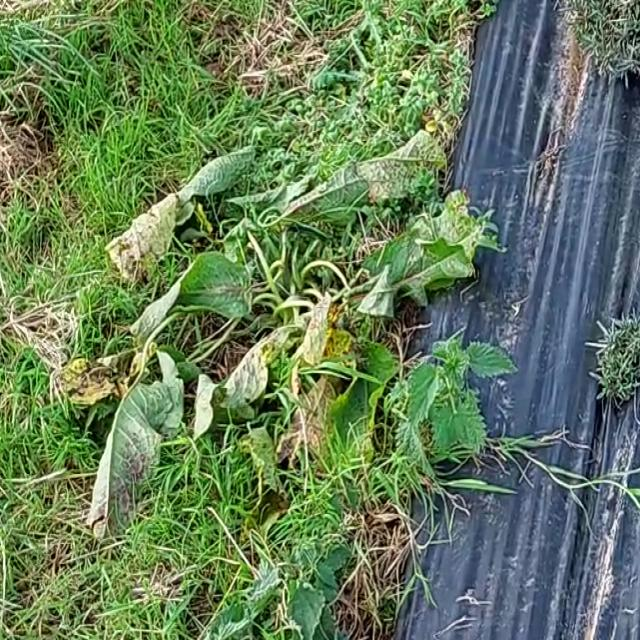organic waste: (56, 130, 478, 530)
